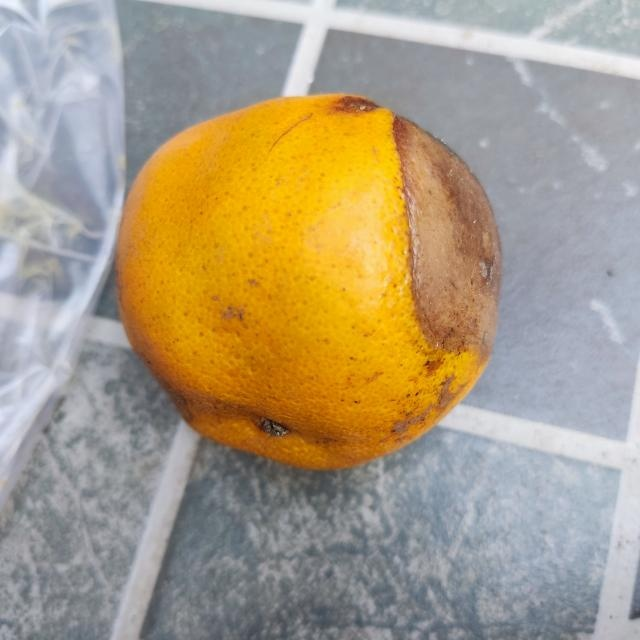agrume: (113, 86, 507, 474)
